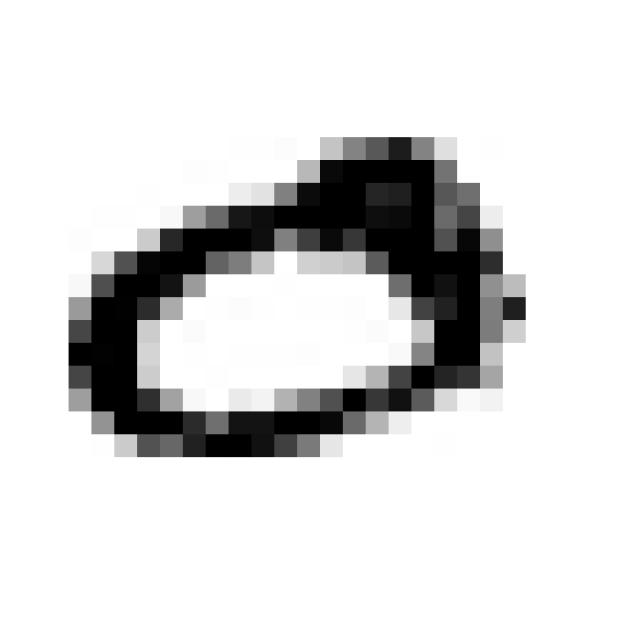5 -five-: (55, 112, 540, 476)
